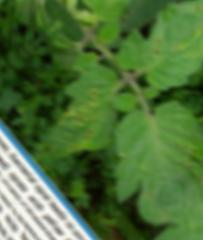Tomato leaf bacterial spot: (81, 81, 203, 223), (20, 52, 148, 176), (106, 8, 203, 118), (77, 0, 148, 37)
